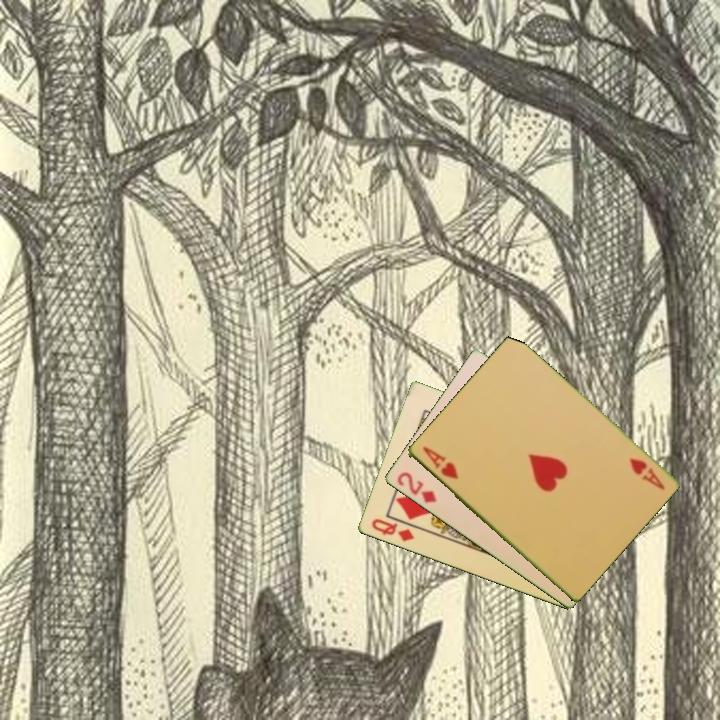2d: (393, 468, 439, 506)
Ah: (418, 443, 461, 482), (625, 454, 667, 493)
Qd: (367, 515, 417, 545)
